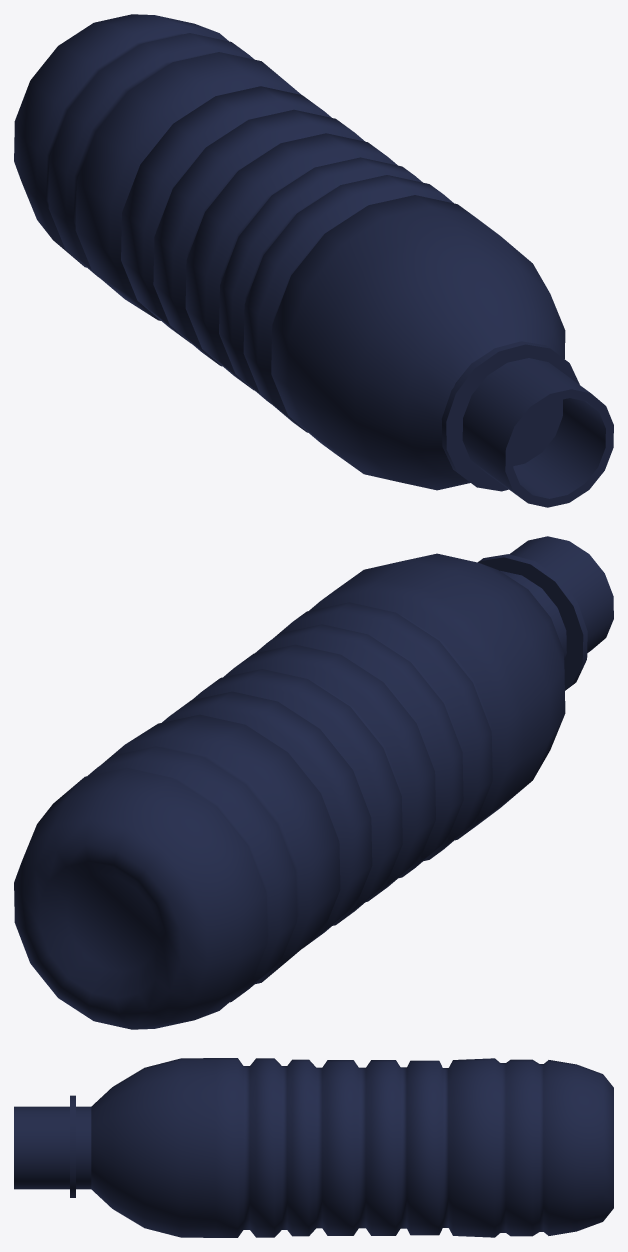
3 views of the same model, one above another, from view 1: azimuth 30°, elevation 25°; view 2: azimuth 150°, elevation 25°; view 3: azimuth 270°, elevation 25° (orthographic). The views are drawn at different scales.
Size of the model in its own units: 0.2879 by 0.2879 by 0.9668.
